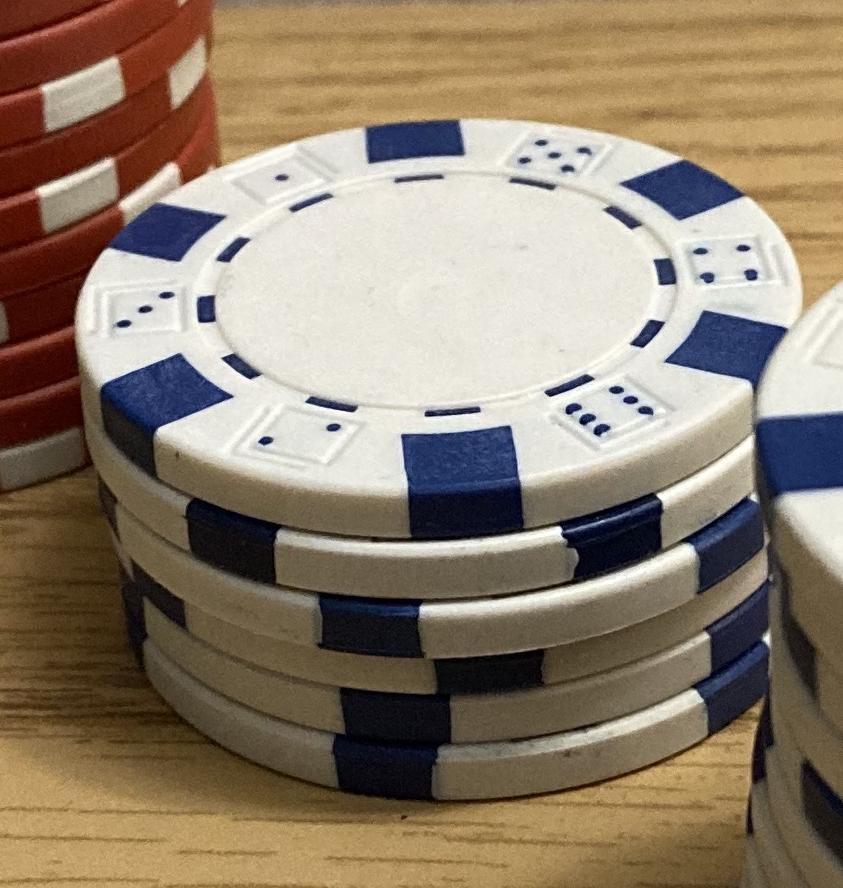Chip: (1, 1, 843, 888)
